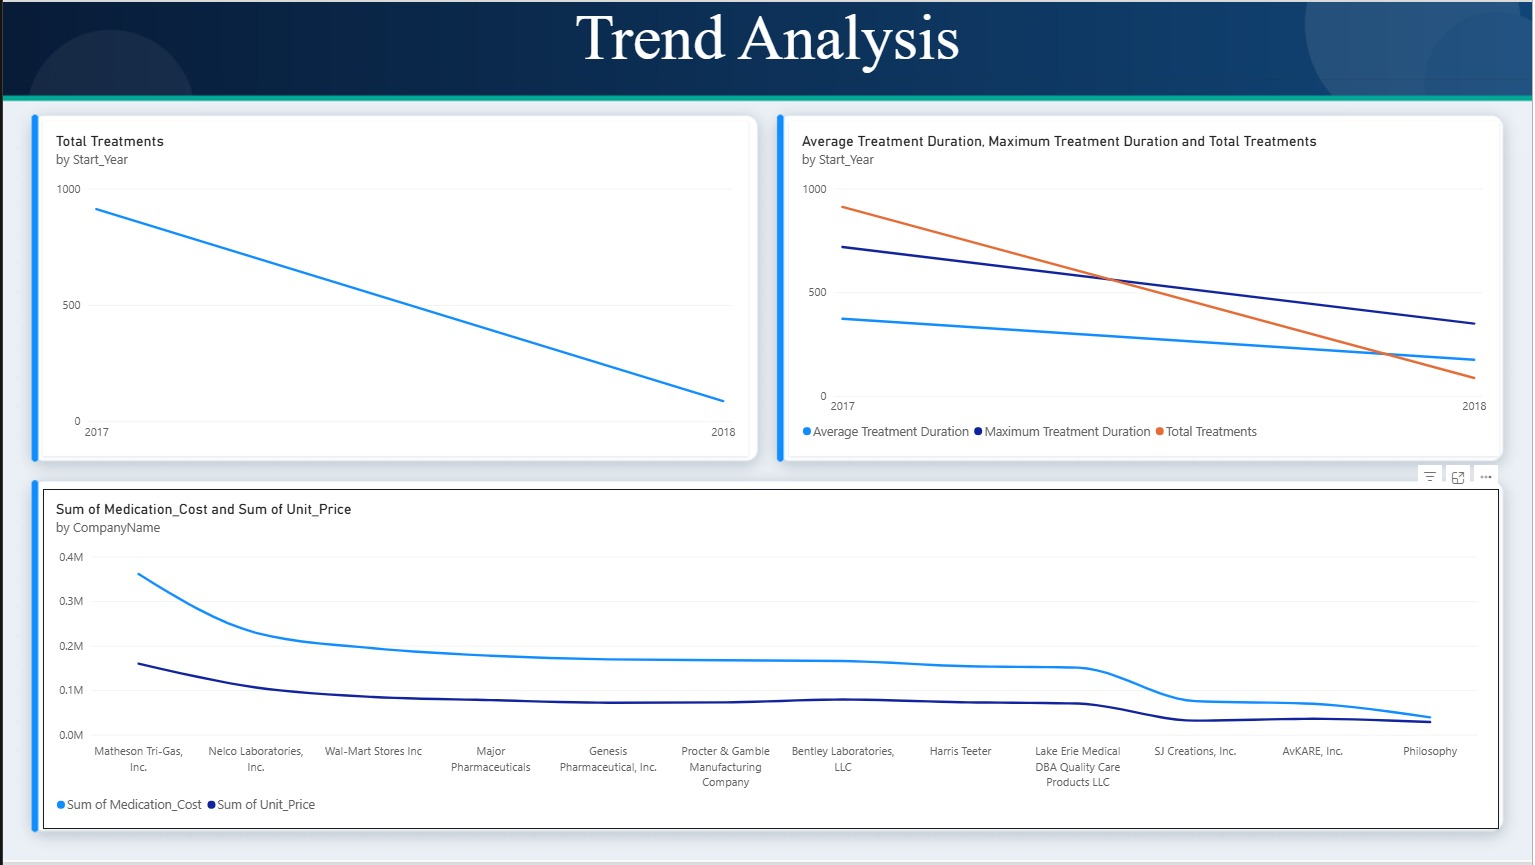

The page's visual inventory and layout, read from the dashboard file:
{"tool":"powerbi","page":{"name":"Trend Analysis","canvas":[1920,1080],"ordinal":1},"visuals":[{"type":"lineChart","fields":{"Category":["BI vw_TreatmentAnalysis.Start_Year"],"Y":["BI vw_TreatmentAnalysis.Total Treatments"]},"box":[50.3,149.3,886.2,421.1],"z":0},{"type":"lineChart","fields":{"Category":["BI vw_TreatmentAnalysis.Start_Year"],"Y":["BI vw_TreatmentAnalysis.Average Treatment Duration","BI vw_TreatmentAnalysis.Maximum Treatment Duration","BI vw_TreatmentAnalysis.Total Treatments"]},"box":[986.7,149.3,892.4,421.1],"z":1000},{"type":"lineChart","fields":{"Category":["BI vw_MedicationAnalysis.CompanyName"],"Y":["Sum(BI vw_MedicationAnalysis.Medication_Cost)","Sum(BI vw_MedicationAnalysis.Unit_Price)"]},"box":[50.3,611.2,1828.9,427.4],"z":2000},{"type":"textbox","box":[0,0,1920,97.4],"z":3000}]}

Visuals, with their boxes in screenshot pixels (x1, y1, x2, y2), scaled from the page's 1920x1080 canvas onto the 1535x865 screenshot:
lineChart - BI vw_TreatmentAnalysis.Start_Year x BI vw_TreatmentAnalysis.Total Treatments: left=40, top=120, right=749, bottom=457
lineChart - BI vw_TreatmentAnalysis.Start_Year x BI vw_TreatmentAnalysis.Average Treatment Duration: left=789, top=120, right=1502, bottom=457
lineChart - BI vw_MedicationAnalysis.CompanyName x Sum(BI vw_MedicationAnalysis.Medication_Cost): left=40, top=490, right=1502, bottom=832
textbox: left=0, top=0, right=1534, bottom=78
